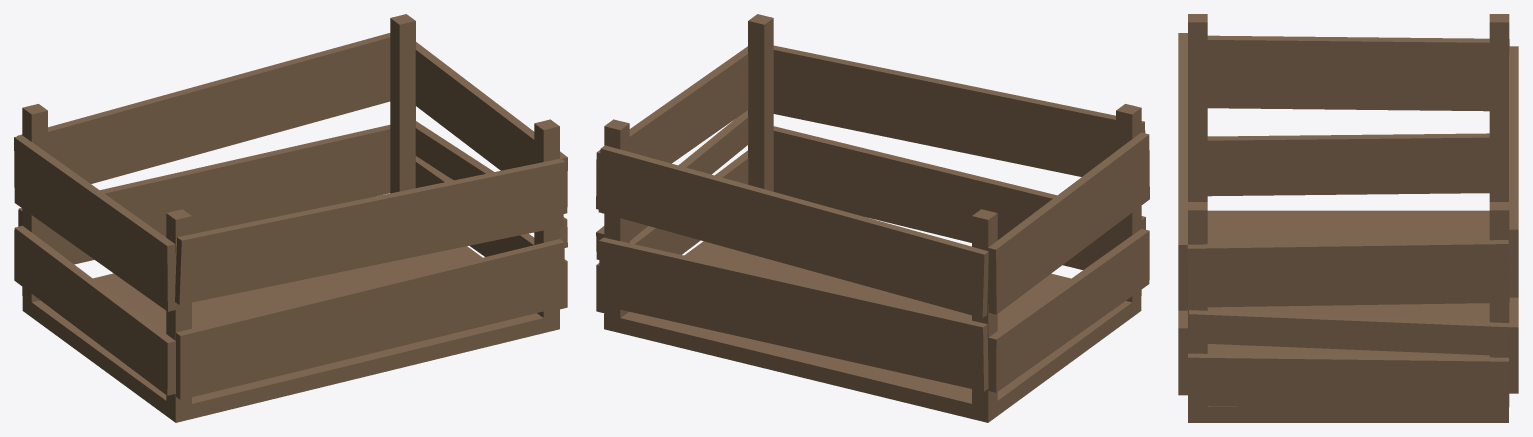
File: Wooden crate.fbx
The picture shows the model from 3 angles, left to right: view 1: azimuth 30°, elevation 25°; view 2: azimuth 150°, elevation 25°; view 3: azimuth 270°, elevation 25°; orthographic projection. The views are drawn at different scales.
Parts seen in each view (by area): view 1: Wooden crate; view 2: Wooden crate; view 3: Wooden crate.
Part boxes in pixels (left/top/right/bottom): Wooden crate: left=14, top=14, right=567, bottom=422; Wooden crate: left=596, top=14, right=1149, bottom=422; Wooden crate: left=1178, top=14, right=1518, bottom=422.
Size of the model in its own units: 508 by 358 by 246.
